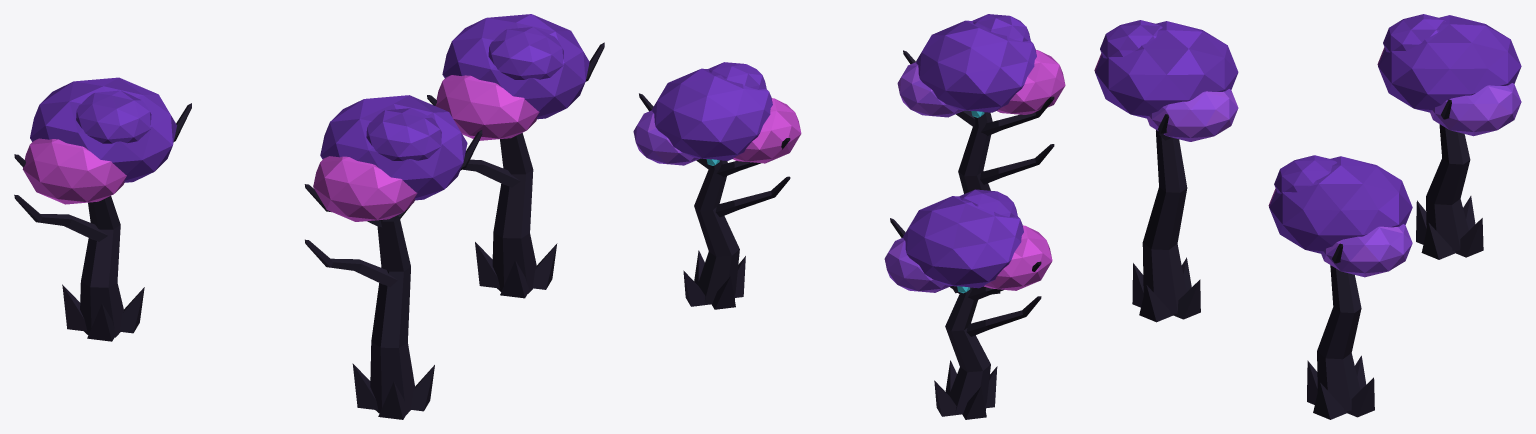
The model's file is Decor_VoidPortal_VoidTrees.fbx.
3 renders of one model, left to right at view 1: azimuth 30°, elevation 25°; view 2: azimuth 150°, elevation 25°; view 3: azimuth 270°, elevation 25°, orthographic. The views are drawn at different scales.
Visible parts, largest first — view 1: VoidTrees_Body; view 2: VoidTrees_Body; view 3: VoidTrees_Body.
Part boxes in pixels (<box>): VoidTrees_Body: <box>14,14,604,419</box>; VoidTrees_Body: <box>633,14,1065,419</box>; VoidTrees_Body: <box>1094,14,1521,419</box>.
Size of the model in its own units: 26.61 by 14.7 by 20.
